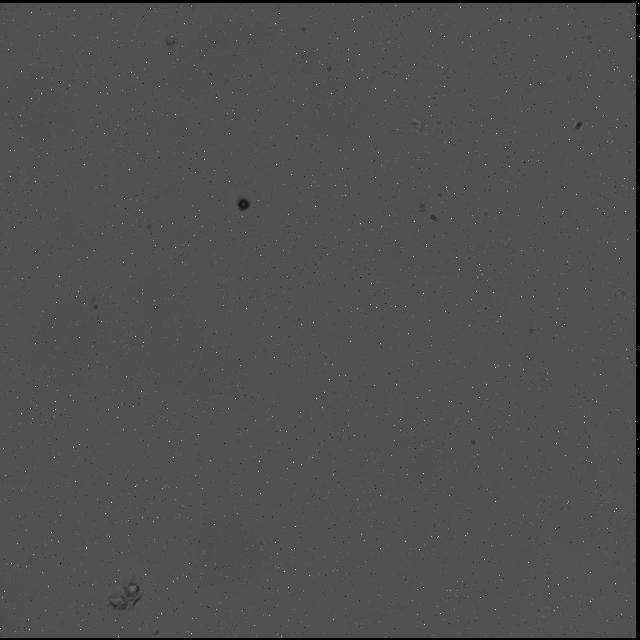microbeads: (238, 196, 248, 210)
